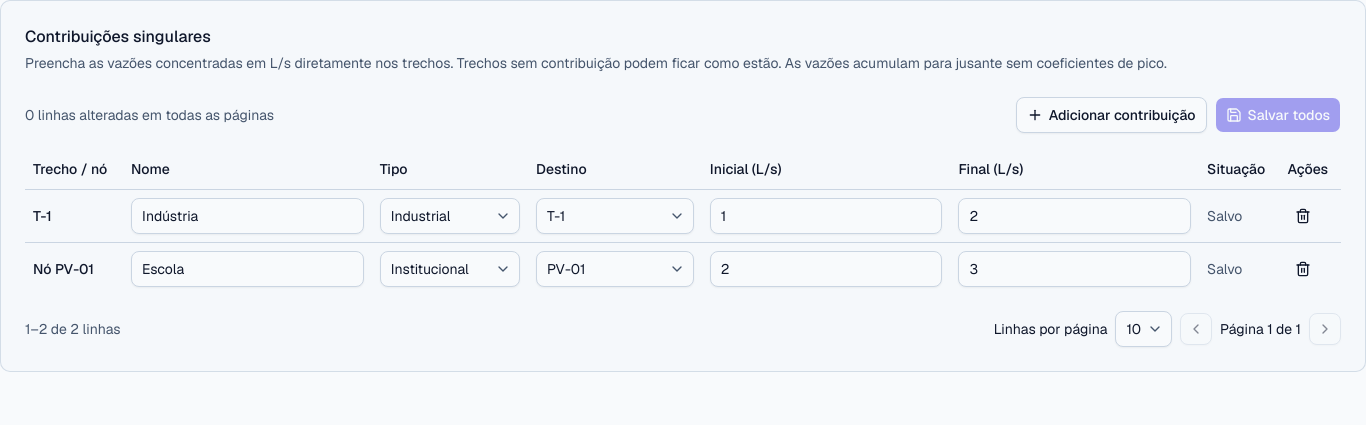
Test case: contribution grid › updates existing segment and node contributions without creating duplicates
This screenshot has width=1366, height=425.
Type "5" into the number field named "Vazão final (L/s) T-1" at (1075, 216), box x1=958 y1=198 x2=1191 y2=234
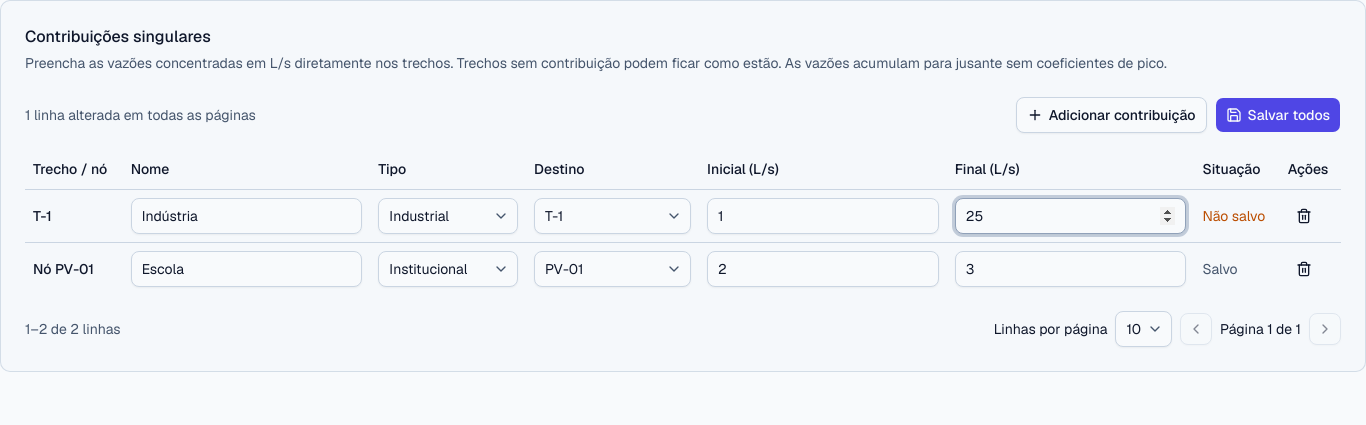
Type "6" into the number field named "Vazão final (L/s) Nó PV-01" at (1071, 268), box x1=955 y1=250 x2=1186 y2=286
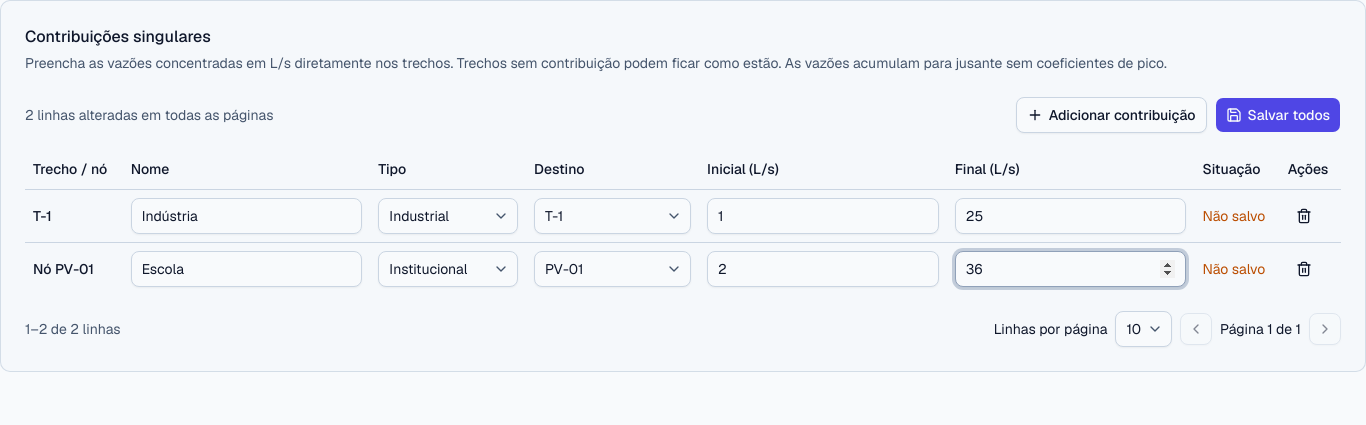
Click the button "Salvar todos" at (1278, 115), box x1=1214 y1=97 x2=1341 y2=133
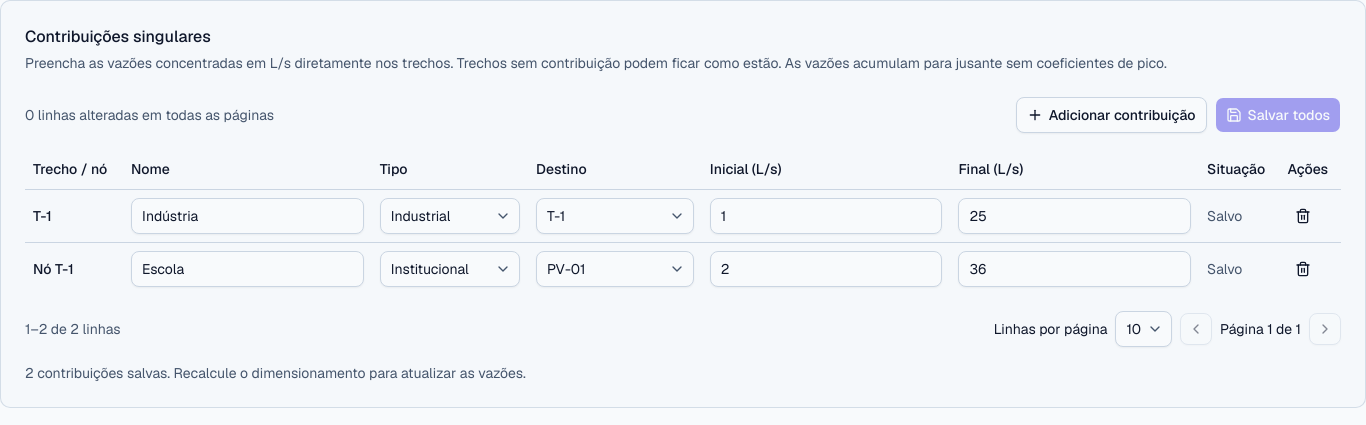
expect the text "2 contribuições salvas. Recalcule o dimensionamento para atualizar as vazões." is shown: met, box x1=25 y1=364 x2=526 y2=382
